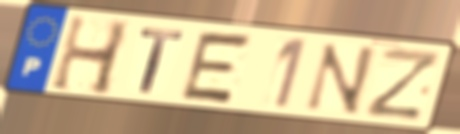1: (270, 35, 309, 111)
E: (176, 29, 257, 106)
H: (47, 12, 135, 98)
N: (301, 41, 380, 117)
T: (137, 26, 186, 96)
Z: (362, 44, 444, 121)
